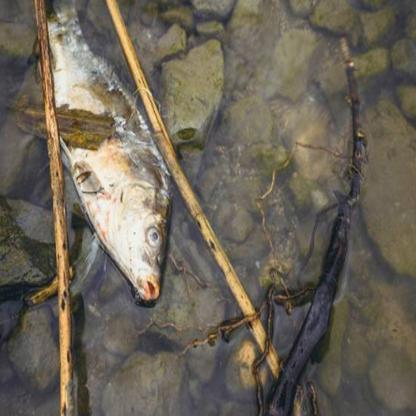deceased fish: (41, 4, 165, 303)
